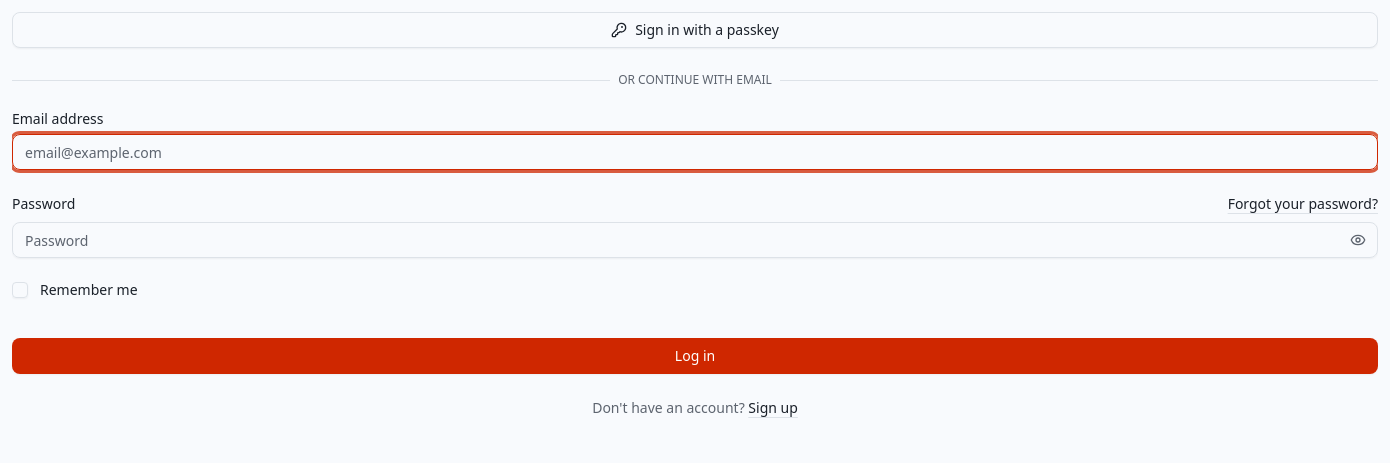
Test: Login page › maps 422 field errors onto the matching fields
Type "jane@example.com" into the field labelled "Email address" at (695, 152), box top-left (12, 134), bottom-right (1378, 170)
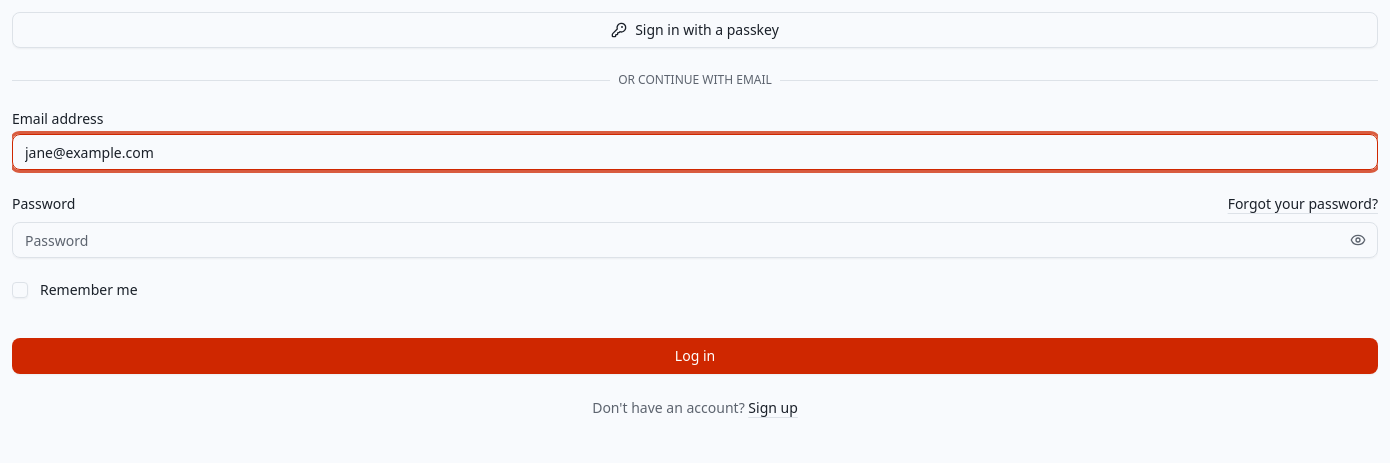
Type "secret123" into the password field labelled "Password" at (695, 240), box top-left (12, 222), bottom-right (1378, 258)
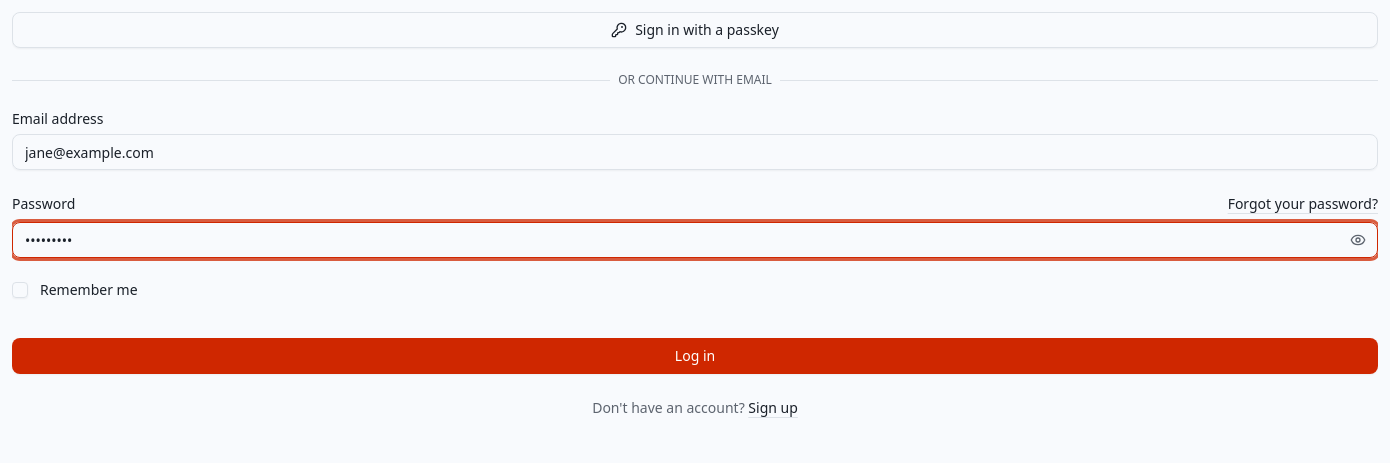
Click the button "Log in" at (695, 356), box top-left (12, 338), bottom-right (1378, 374)
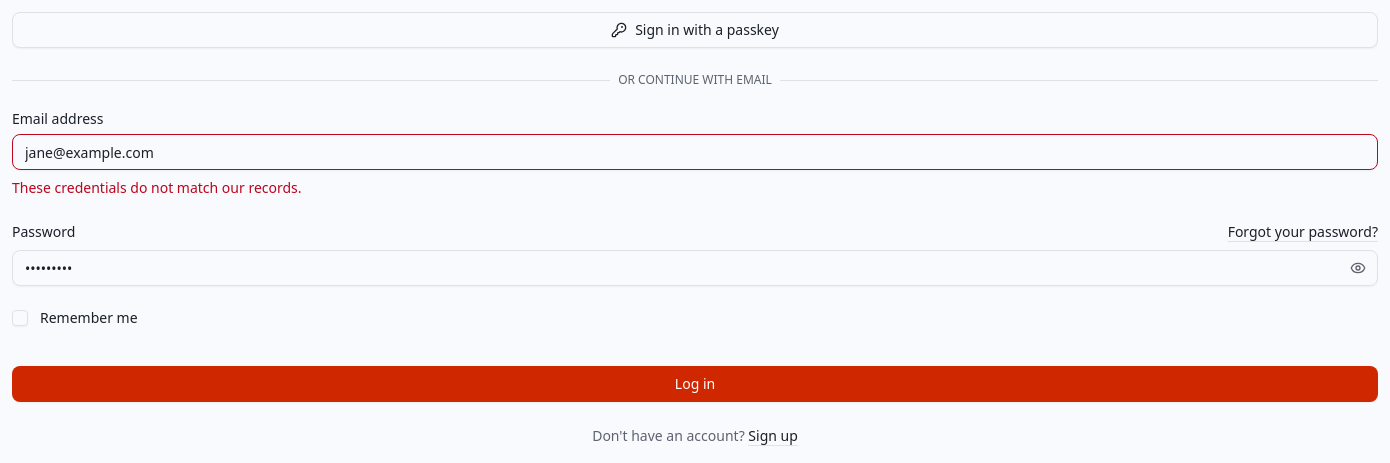
Expected: the text "These credentials do not match our records." is shown, top-left (12, 178), bottom-right (302, 197)
